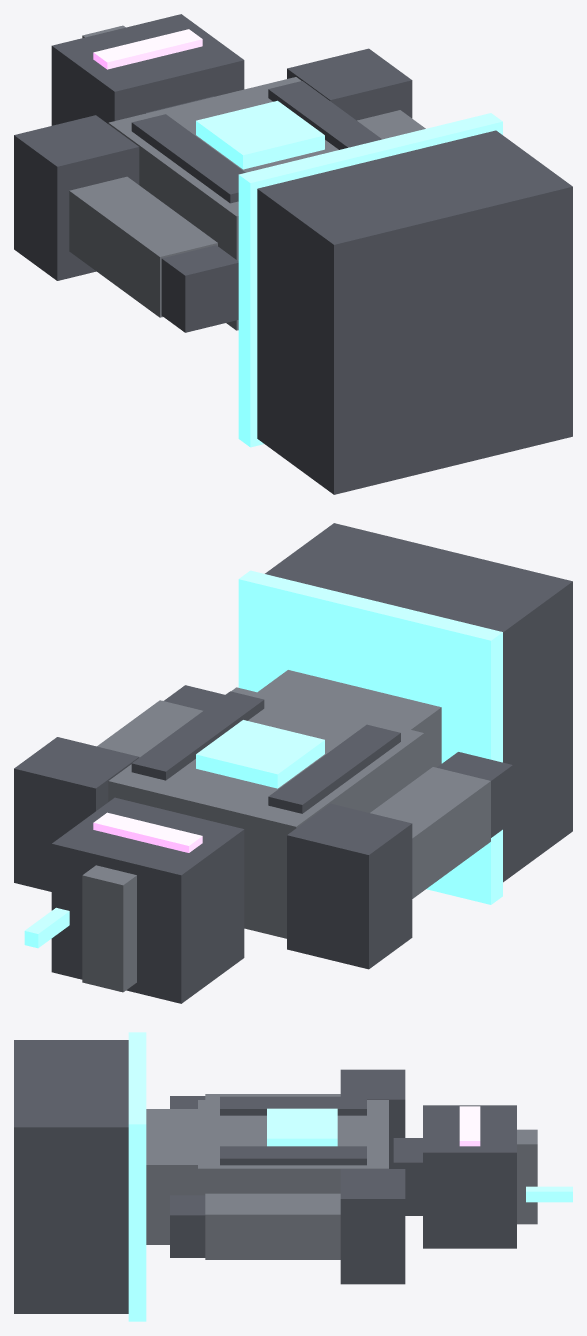
Rendered from sentinel.glb.
3 views of the same model, one above another, from view 1: azimuth 30°, elevation 25°; view 2: azimuth 150°, elevation 25°; view 3: azimuth 270°, elevation 25° (orthographic). The views are drawn at different scales.
Visible parts, largest first — view 1: Base, Head, ShL, ArmL, Trim, Torso, FistL, Core, ShR, PlateL, PlateR, Eye (+1 smaller); view 2: Base, Trim, Head, Torso, ShL, ShR, ArmL, Crest, Pelvis, Core, PlateL, PlateR (+5 smaller); view 3: Base, Head, Torso, ArmR, ShR, Pelvis, Trim, PlateR, Core, ShL, PlateL, FistR (+6 smaller).
Part boxes in pixels (<box>): Base: <box>257,130,572,494</box>; Head: <box>51,14,244,125</box>; ShL: <box>14,115,139,280</box>; ArmL: <box>69,176,217,317</box>; Trim: <box>238,113,502,447</box>; Torso: <box>108,77,338,330</box>; FistL: <box>161,245,238,332</box>; Core: <box>196,100,324,169</box>; ShR: <box>287,48,412,120</box>; PlateL: <box>131,114,245,203</box>; PlateR: <box>268,81,381,149</box>; Eye: <box>93,29,202,69</box>; Base: <box>265,523,572,882</box>; Trim: <box>238,570,502,904</box>; Head: <box>51,797,244,1003</box>; Torso: <box>108,687,424,938</box>; ShL: <box>287,803,412,969</box>; ShR: <box>14,737,139,891</box>; ArmL: <box>370,767,490,898</box>; Crest: <box>82,865,136,992</box>; Pelvis: <box>258,670,441,772</box>; Core: <box>196,720,324,788</box>; PlateL: <box>268,724,400,813</box>; PlateR: <box>131,691,264,780</box>; Base: <box>14,1040,128,1313</box>; Head: <box>423,1105,516,1248</box>; Torso: <box>198,1100,388,1195</box>; ArmR: <box>205,1193,340,1259</box>; ShR: <box>340,1169,405,1284</box>; Pelvis: <box>146,1109,197,1244</box>; Trim: <box>128,1032,146,1321</box>; PlateR: <box>220,1146,366,1165</box>; Core: <box>267,1108,337,1146</box>; ShL: <box>340,1069,405,1168</box>; PlateL: <box>220,1096,366,1115</box>; FistR: <box>170,1195,205,1257</box>.
Size of the model in its own units: 1.04 by 0.74 by 1.9.
